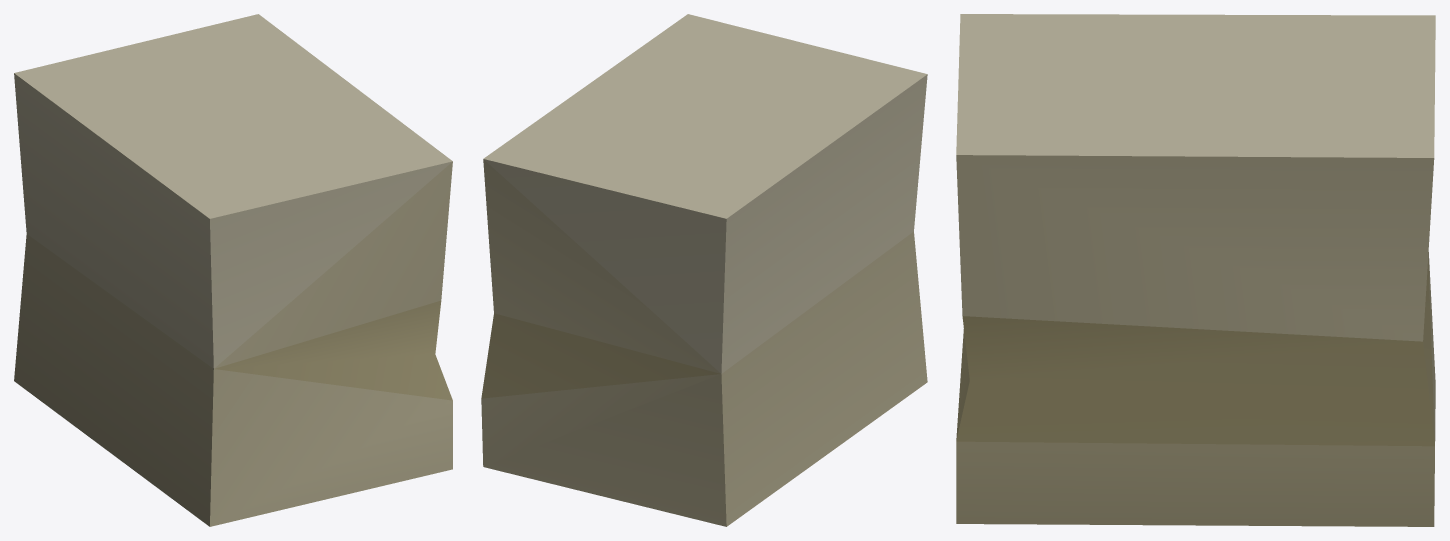
Rendered from clutter_box2.fbx.
3 renders of one model, left to right at view 1: azimuth 30°, elevation 25°; view 2: azimuth 150°, elevation 25°; view 3: azimuth 270°, elevation 25°, orthographic. The views are drawn at different scales.
Visible parts, largest first — view 1: Box03; view 2: Box03; view 3: Box03.
Boxes of the visible parts, left/top/right/bottom form: Box03: left=14, top=14, right=452, bottom=526; Box03: left=481, top=14, right=927, bottom=526; Box03: left=956, top=14, right=1435, bottom=526.
Bounding box in the file's own units: 1011 × 1414 × 1200.
